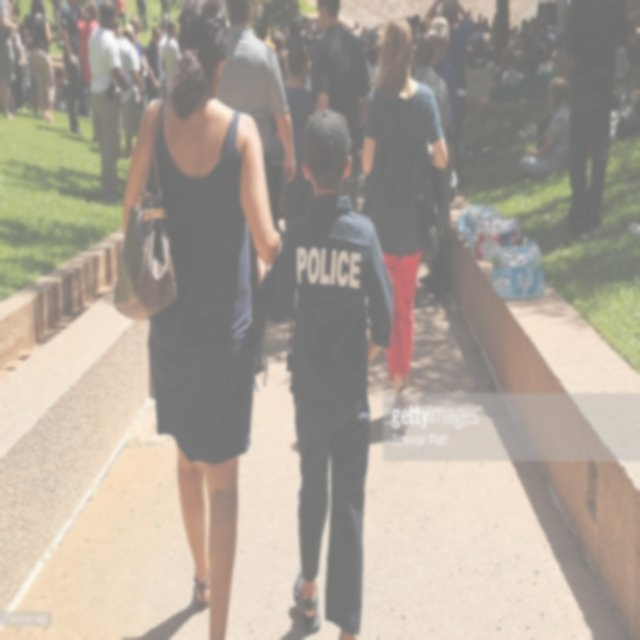pessoa: (110, 0, 288, 639), (258, 106, 397, 639), (359, 13, 450, 434), (216, 0, 298, 345), (308, 0, 372, 213), (564, 0, 618, 235), (467, 1, 520, 176), (87, 0, 130, 208), (282, 41, 316, 216), (516, 74, 572, 180), (408, 31, 453, 136), (116, 21, 144, 160), (27, 0, 57, 126), (520, 1, 564, 72), (60, 0, 82, 135), (128, 13, 150, 138), (78, 0, 100, 117), (9, 0, 31, 114), (430, 1, 466, 66), (0, 0, 18, 123), (256, 6, 316, 38), (450, 69, 466, 183), (143, 25, 164, 108), (618, 0, 638, 84), (160, 18, 183, 78), (361, 19, 382, 78), (520, 75, 546, 117), (53, 67, 66, 111), (157, 34, 167, 80), (136, 0, 148, 31), (272, 38, 288, 59), (158, 0, 170, 27), (406, 14, 426, 30), (50, 0, 61, 28), (76, 1, 88, 21), (352, 18, 360, 36)
